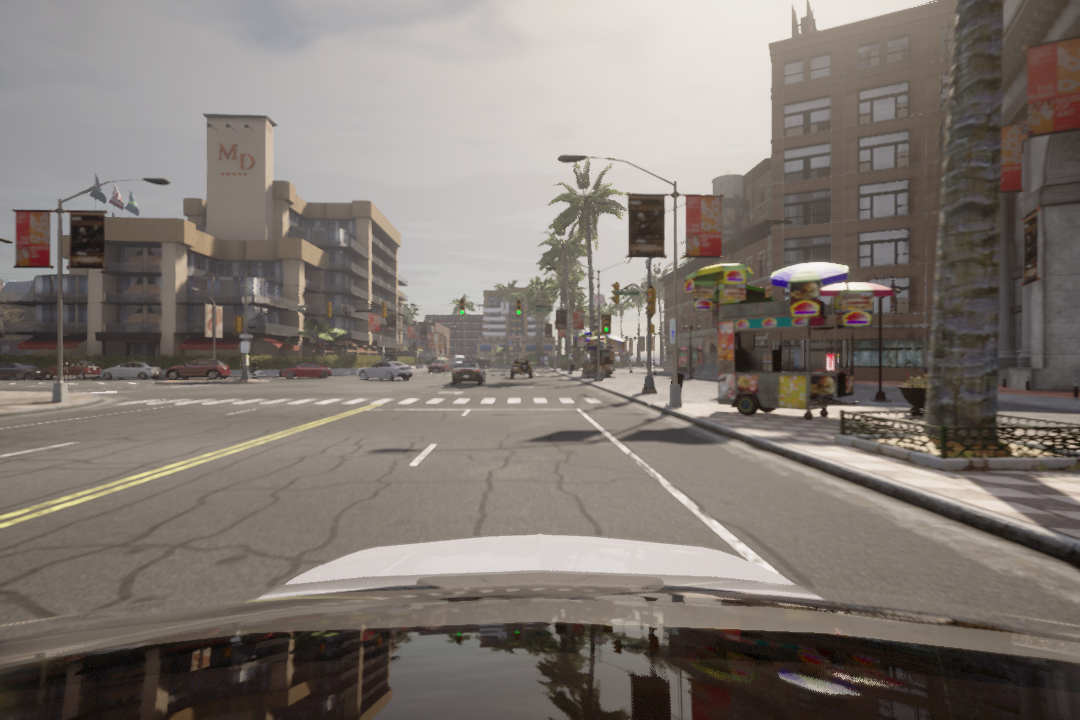TrafficLight: (601, 312, 615, 337), (457, 296, 468, 316), (514, 297, 522, 316)
walkside: (117, 397, 612, 405)
